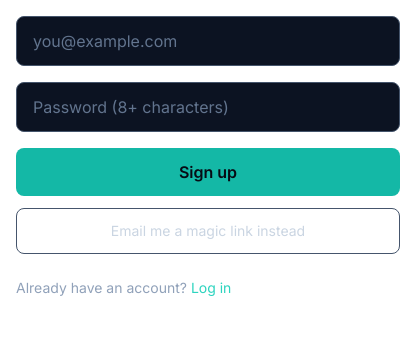
it: AuthForm signup › shows a confirmation message after sign up
In the field with placeholder "you@example.com": (208, 41) [16, 16, 400, 66], type "a@b.com"
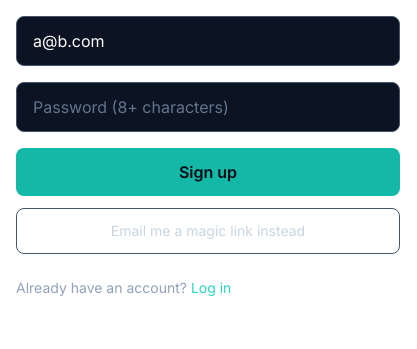
In the password field with placeholder "Password (8+ characters)": (208, 107) [16, 82, 400, 132], type "password123"
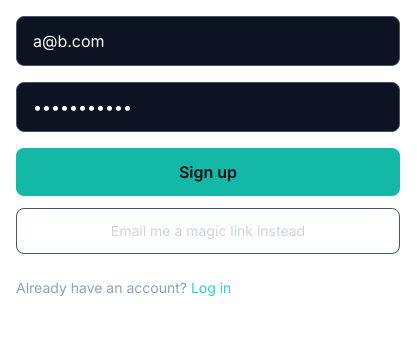
Click the button "Sign up": (208, 172) [16, 148, 400, 196]
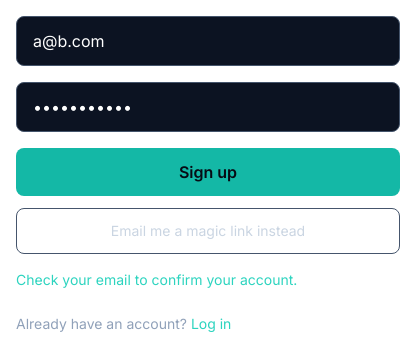
Check: the text "Check your email to confirm your account." is shown, box [16, 271, 297, 288]
